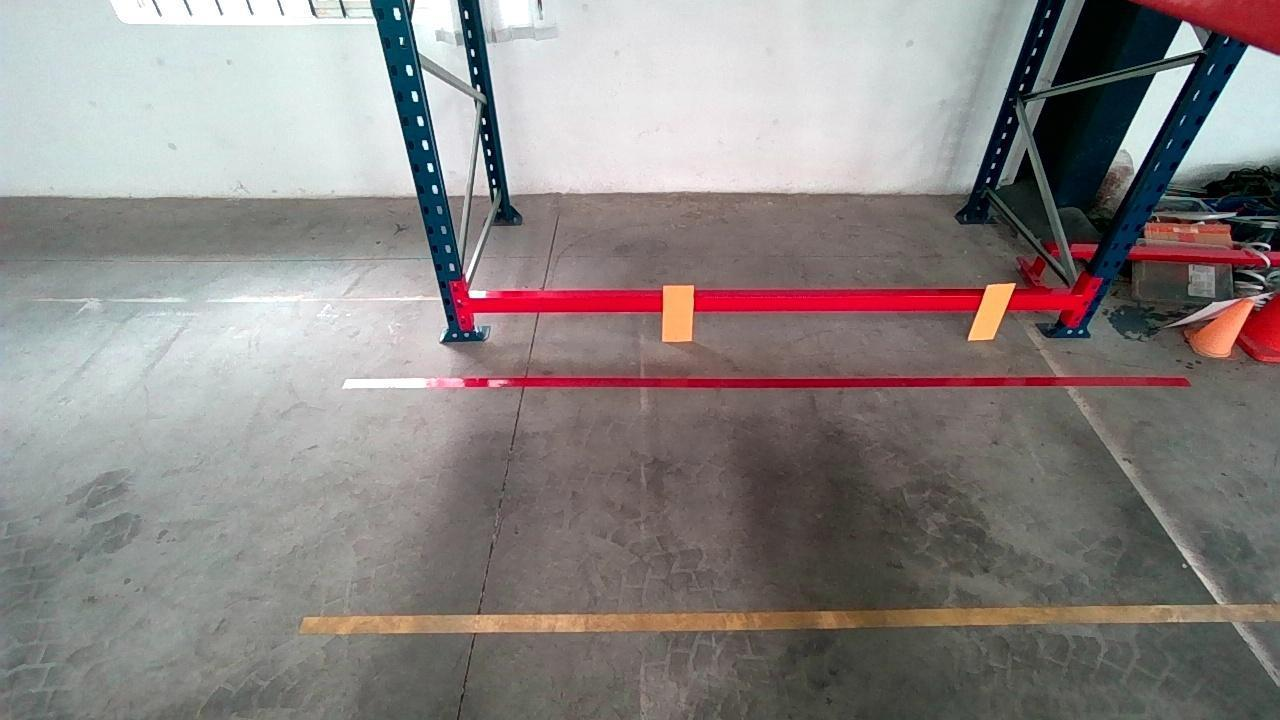h_rack: (468, 287, 1073, 312)
orange_strip: (967, 282, 1018, 340), (662, 283, 694, 340)
red_line: (346, 372, 1193, 388)
yellow_line: (298, 599, 1277, 640)
